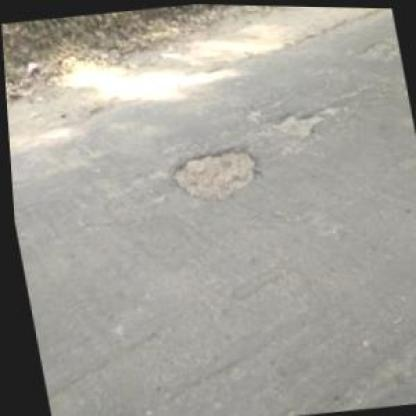pothole: (164, 140, 260, 207), (266, 106, 329, 142)
